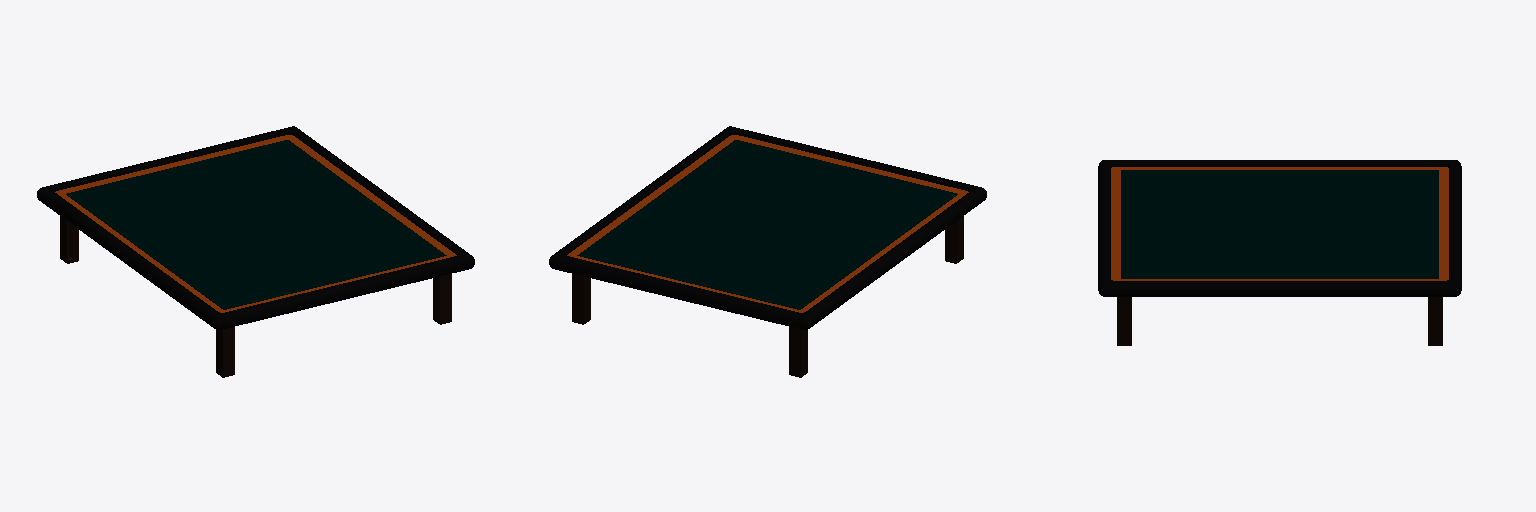
File: coin_table.obj
3 views of the same model, side by side, from view 1: azimuth 30°, elevation 25°; view 2: azimuth 150°, elevation 25°; view 3: azimuth 270°, elevation 25° (orthographic).
Parts seen in each view (by area): view 1: game_table; view 2: game_table; view 3: game_table.
Boxes of the visible parts, <box> form: game_table: <box>37,126,474,377</box>; game_table: <box>549,126,986,377</box>; game_table: <box>1098,160,1461,345</box>.
Size of the model in its own units: 20.16 by 5.08 by 24.32.